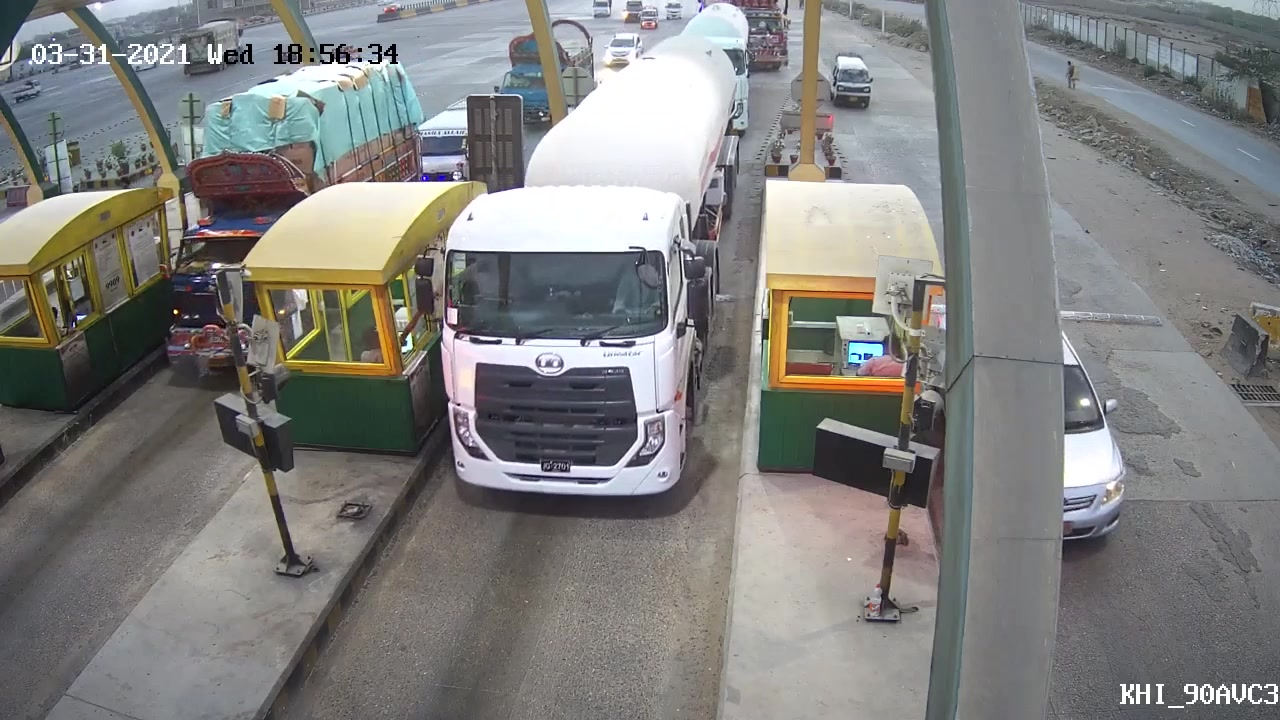F6: (410, 78, 722, 496)
